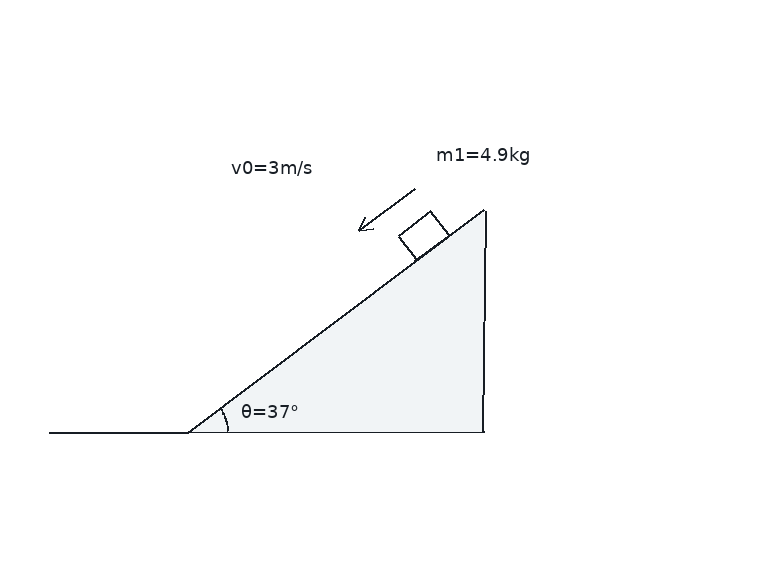block: (396, 209, 451, 262)
ramp: (186, 207, 485, 434)
